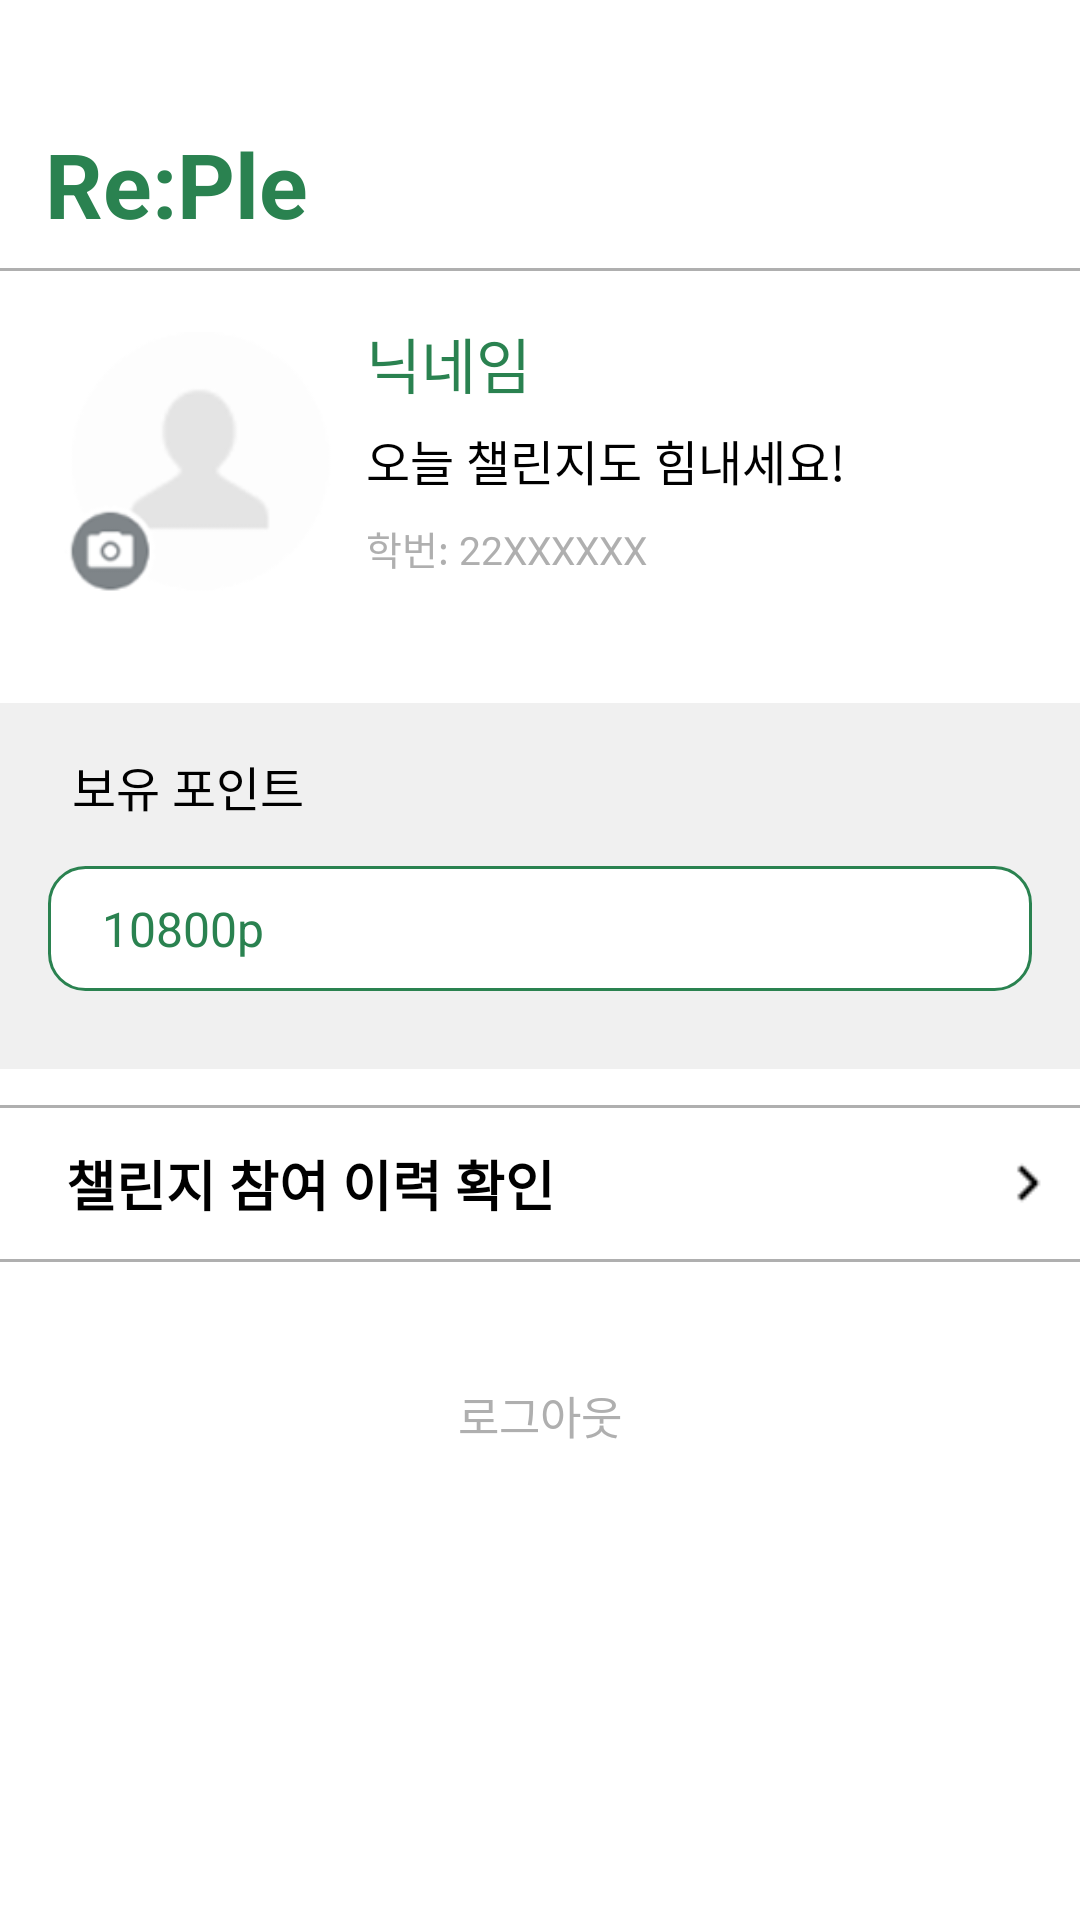

Locate icon controls on the screen. Image size 1080 × 1920, boxes as (left=x1, top=y1, right=x2, bottom=y2).
arrow: (left=1017, top=1165, right=1040, bottom=1201)
profile: (left=71, top=393, right=267, bottom=591)
